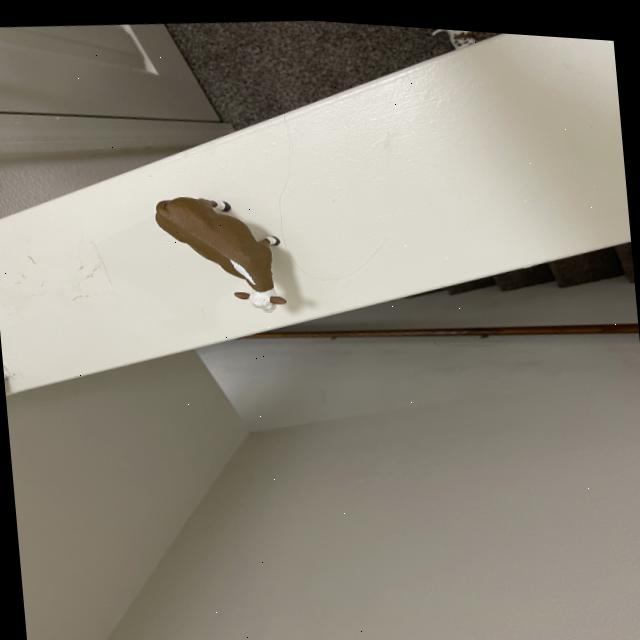cow: (182, 213, 192, 221)
